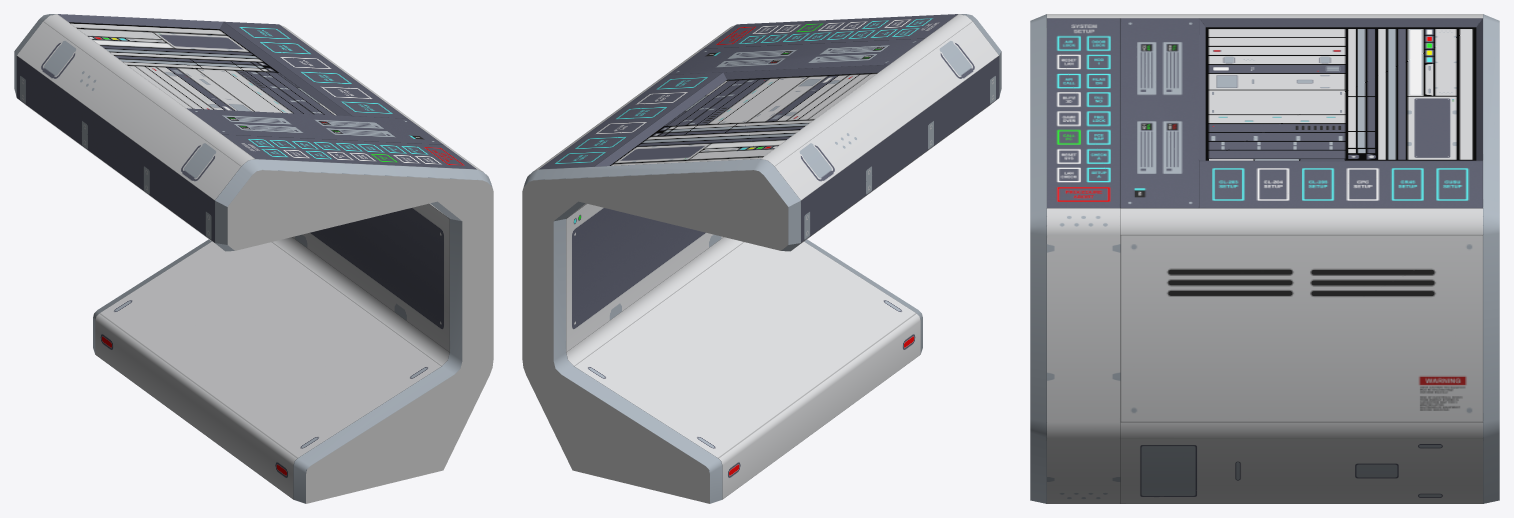
File: Console_Small_01.FBX
The picture shows the model from 3 angles, left to right: view 1: azimuth 30°, elevation 25°; view 2: azimuth 150°, elevation 25°; view 3: azimuth 270°, elevation 25°; orthographic projection. The views are drawn at different scales.
Parts seen in each view (by area): view 1: Console_Small_01, Screen; view 2: Console_Small_01, Screen; view 3: Console_Small_01, Screen.
Boxes of the visible parts, x1,y1,x2,y2 form: Console_Small_01: (14, 14, 493, 503); Screen: (69, 22, 336, 115); Console_Small_01: (522, 14, 1001, 503); Screen: (610, 73, 877, 165); Console_Small_01: (1030, 14, 1499, 503); Screen: (1205, 27, 1476, 160).
Bounding box in the file's own units: 1.02 × 1.24 × 1.36.
